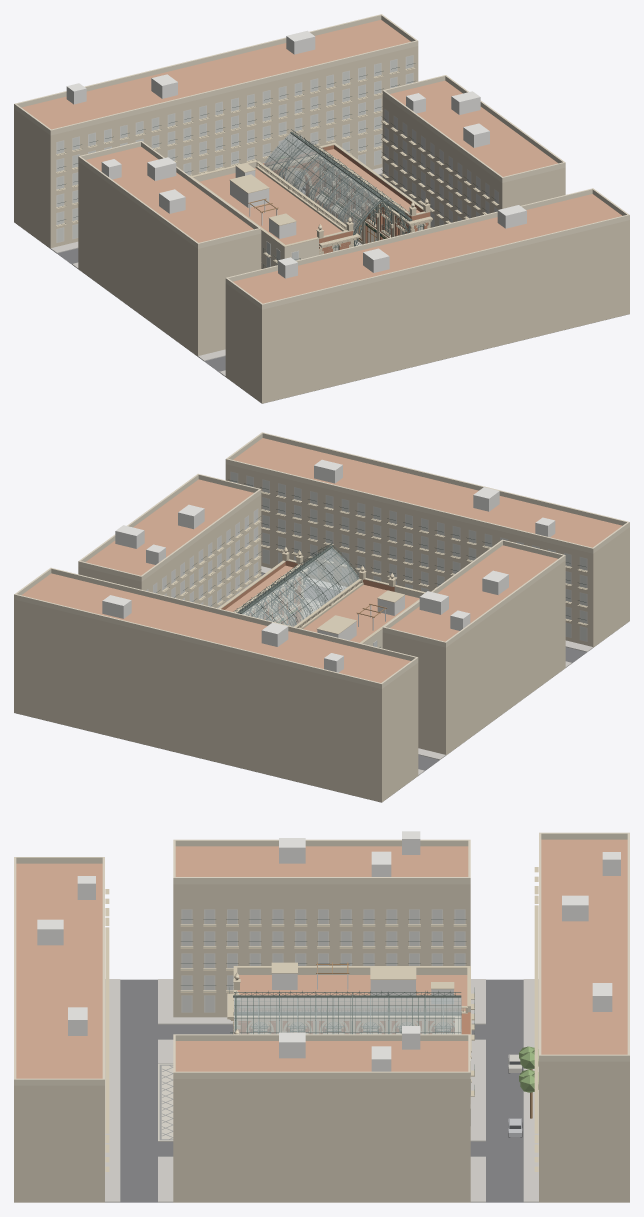
Rendered from clay-barcelona-passatge-clay-v002.glb.
3 renders of one model, top to bottom at view 1: azimuth 30°, elevation 25°; view 2: azimuth 150°, elevation 25°; view 3: azimuth 270°, elevation 25°, orthographic. The views are drawn at different scales.
Parts seen in each view (by area): view 1: CLAY_STUCCO2, CLAY_TERRACOTTA, CLAY_STUCCO, CLAY_GLASS, CLAY_TRIM, CLAY_STONE, CLAY_WHITE, CLAY_IRON, CLAY_BRICK, CLAY_ASPHALT; view 2: CLAY_STUCCO2, CLAY_TERRACOTTA, CLAY_STUCCO, CLAY_GLASS, CLAY_TRIM, CLAY_WHITE, CLAY_STONE, CLAY_IRON, CLAY_ASPHALT, CLAY_BRICK, CLAY_CONCRETE; view 3: CLAY_STUCCO2, CLAY_TERRACOTTA, CLAY_ASPHALT, CLAY_STUCCO, CLAY_GLASS, CLAY_CONCRETE, CLAY_STONE, CLAY_WHITE, CLAY_TRIM, CLAY_IRON, CLAY_TILE, CLAY_BRICK (+2 smaller).
Part boxes in pixels (x1=…): CLAY_STUCCO2: x1=14, y1=46, x2=629, y2=403; CLAY_TERRACOTTA: x1=21, y1=20, x2=622, y2=303; CLAY_STUCCO: x1=14, y1=14, x2=629, y2=309; CLAY_GLASS: x1=57, y1=56, x2=497, y2=267; CLAY_TRIM: x1=56, y1=55, x2=498, y2=267; CLAY_STONE: x1=56, y1=67, x2=498, y2=264; CLAY_WHITE: x1=66, y1=30, x2=526, y2=278; CLAY_IRON: x1=57, y1=63, x2=495, y2=268; CLAY_BRICK: x1=263, y1=145, x2=430, y2=253; CLAY_ASPHALT: x1=17, y1=174, x2=628, y2=403; CLAY_STUCCO2: x1=14, y1=464, x2=629, y2=802; CLAY_TERRACOTTA: x1=22, y1=438, x2=622, y2=682; CLAY_STUCCO: x1=14, y1=432, x2=629, y2=688; CLAY_GLASS: x1=147, y1=472, x2=586, y2=646; CLAY_TRIM: x1=146, y1=471, x2=587, y2=646; CLAY_WHITE: x1=102, y1=459, x2=555, y2=672; CLAY_STONE: x1=162, y1=491, x2=587, y2=643; CLAY_IRON: x1=156, y1=479, x2=586, y2=647; CLAY_ASPHALT: x1=16, y1=573, x2=625, y2=802; CLAY_BRICK: x1=221, y1=560, x2=394, y2=623; CLAY_CONCRETE: x1=261, y1=566, x2=593, y2=775; CLAY_STUCCO2: x1=14, y1=884, x2=629, y2=1202; CLAY_TERRACOTTA: x1=16, y1=839, x2=627, y2=1078; CLAY_ASPHALT: x1=120, y1=979, x2=523, y2=1202; CLAY_STUCCO: x1=14, y1=832, x2=629, y2=1085; CLAY_GLASS: x1=182, y1=910, x2=464, y2=1034; CLAY_CONCRETE: x1=105, y1=979, x2=538, y2=1202; CLAY_STONE: x1=105, y1=867, x2=538, y2=1171; CLAY_WHITE: x1=37, y1=831, x2=620, y2=1071; CLAY_TRIM: x1=181, y1=909, x2=470, y2=1125; CLAY_IRON: x1=181, y1=919, x2=474, y2=1095; CLAY_TILE: x1=158, y1=1064, x2=173, y2=1141; CLAY_BRICK: x1=234, y1=1009, x2=470, y2=1034.
Size of the model in its own units: 69.5 by 22.9 by 81.2.
